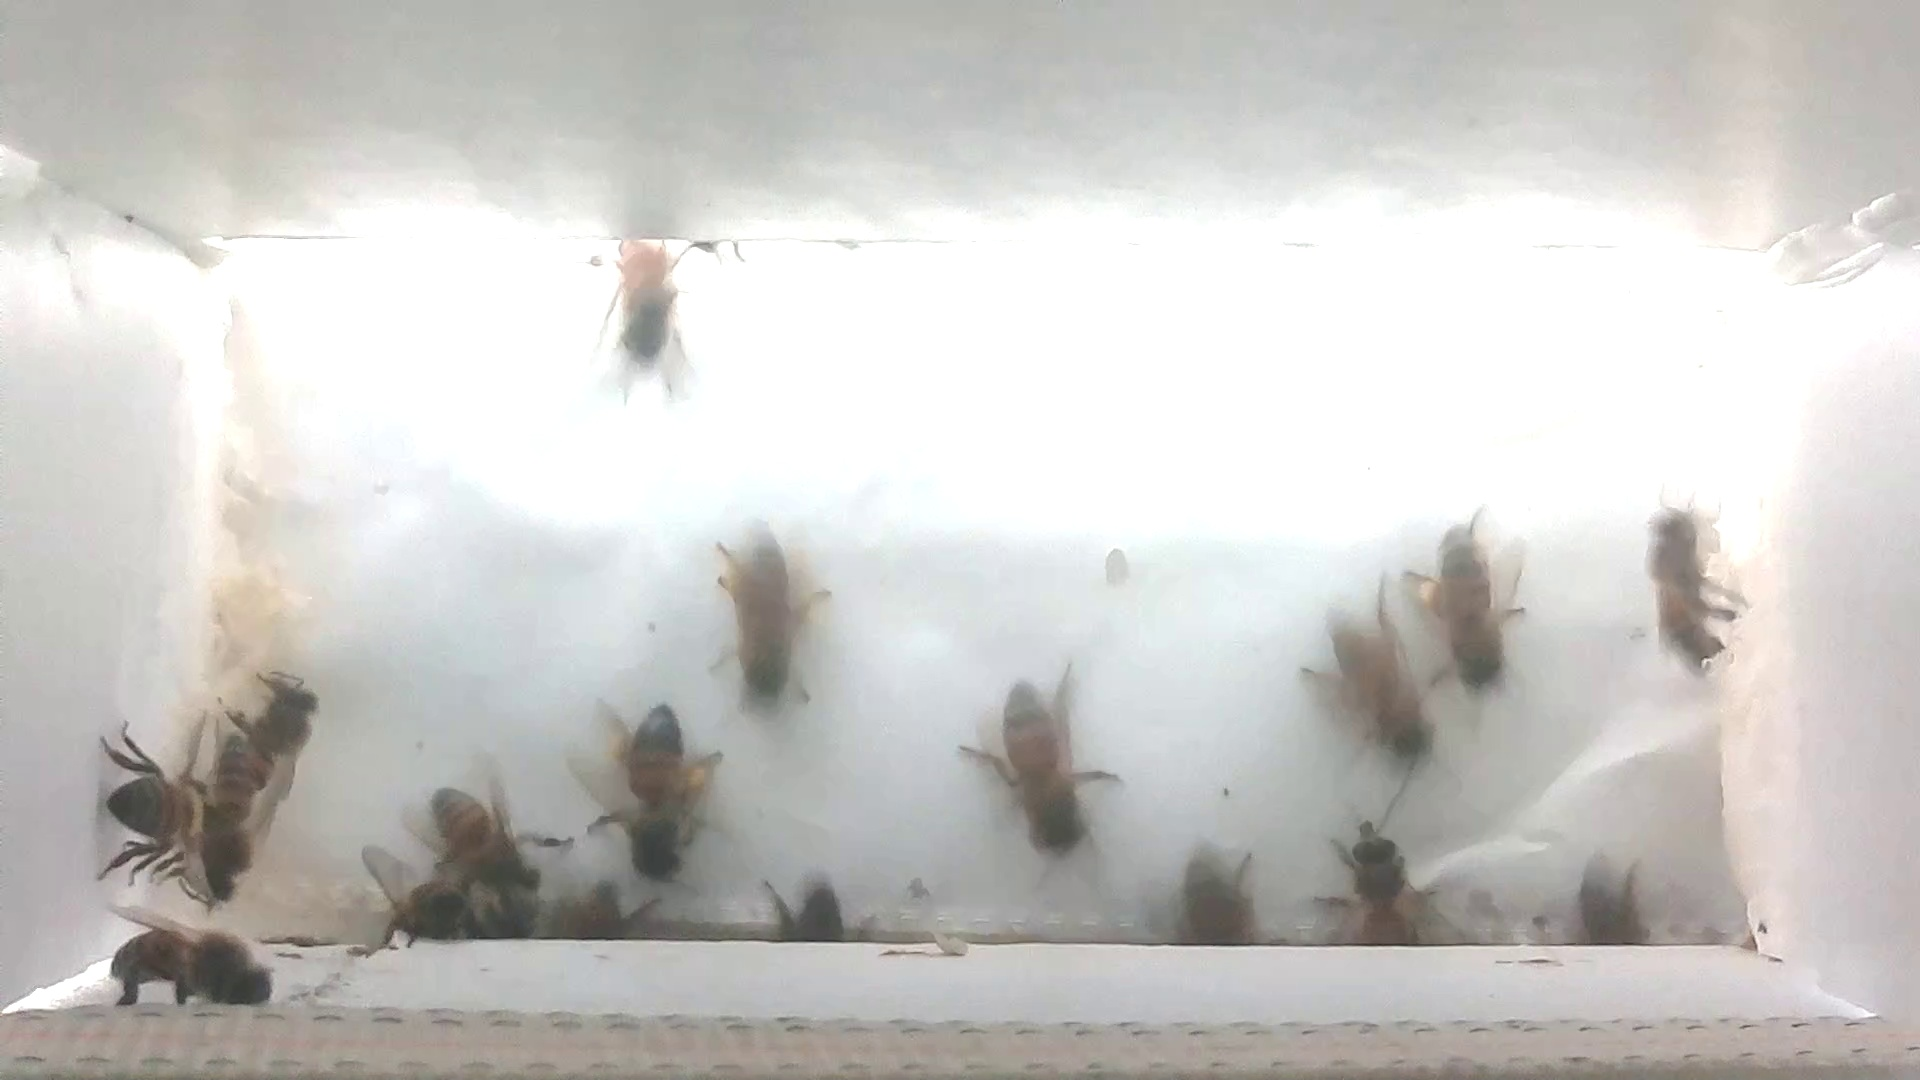bee: (948, 661, 1121, 872), (1299, 580, 1460, 793), (578, 683, 731, 893), (700, 520, 844, 720), (1406, 500, 1543, 705), (1629, 480, 1746, 696), (196, 646, 328, 835), (90, 890, 276, 1019), (583, 218, 709, 401), (413, 769, 553, 910), (84, 713, 203, 872), (1313, 808, 1439, 949), (351, 844, 473, 964), (1174, 847, 1280, 959), (760, 864, 869, 949), (1561, 849, 1648, 953)
